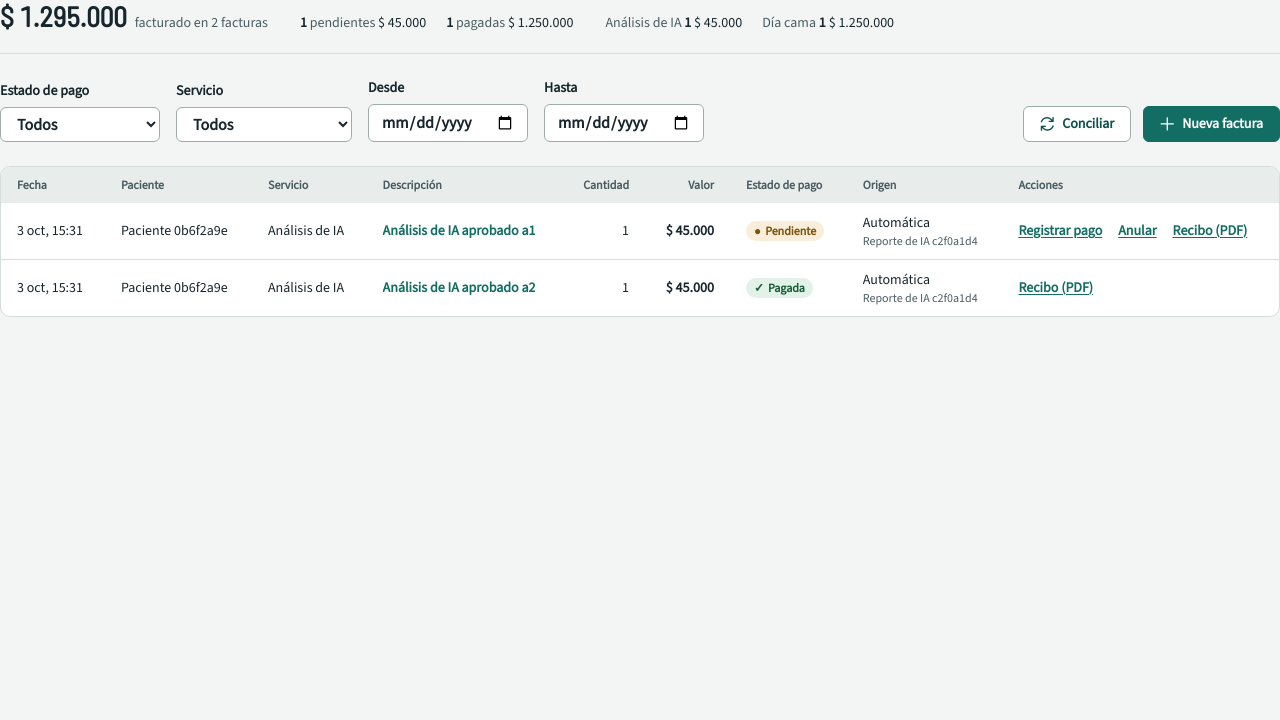
Test case: billing screen › reloads the list when the invoice changed state (409)
Click the button "Registrar pago" at [1060, 231], box [1018,221,1102,241]
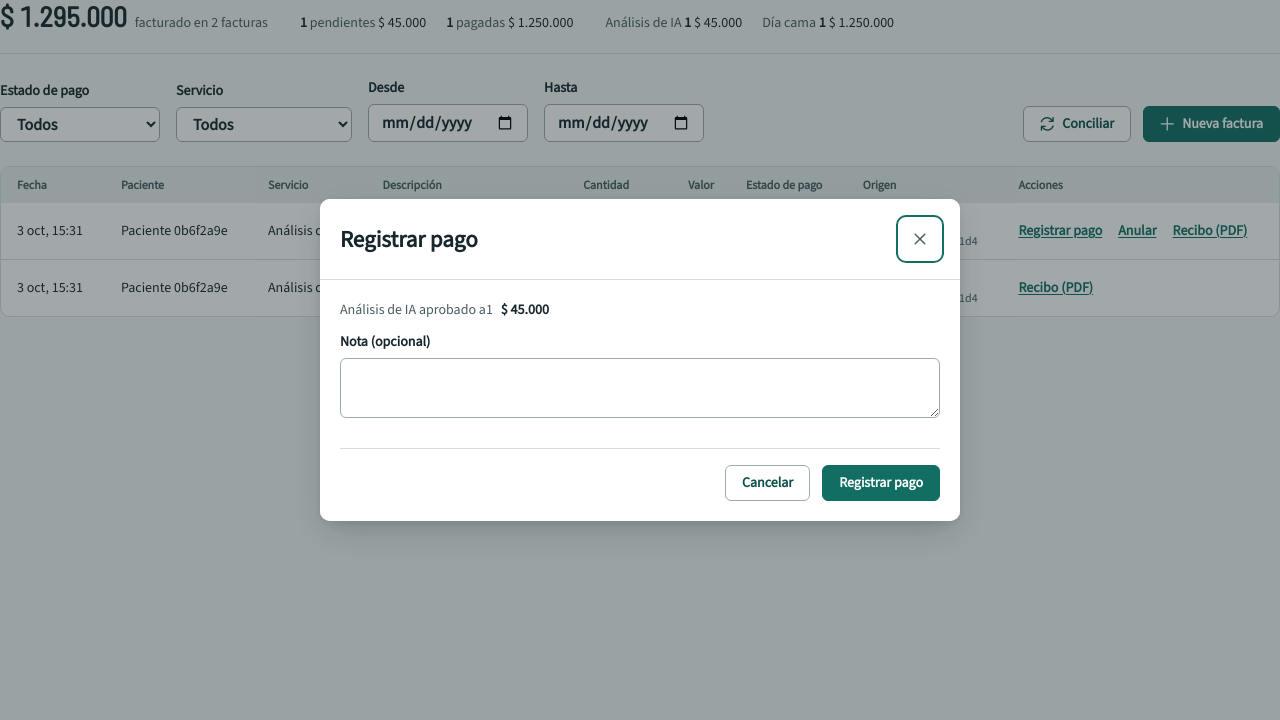
Click the button "Registrar pago" at [881, 483], box [822,465,940,501]
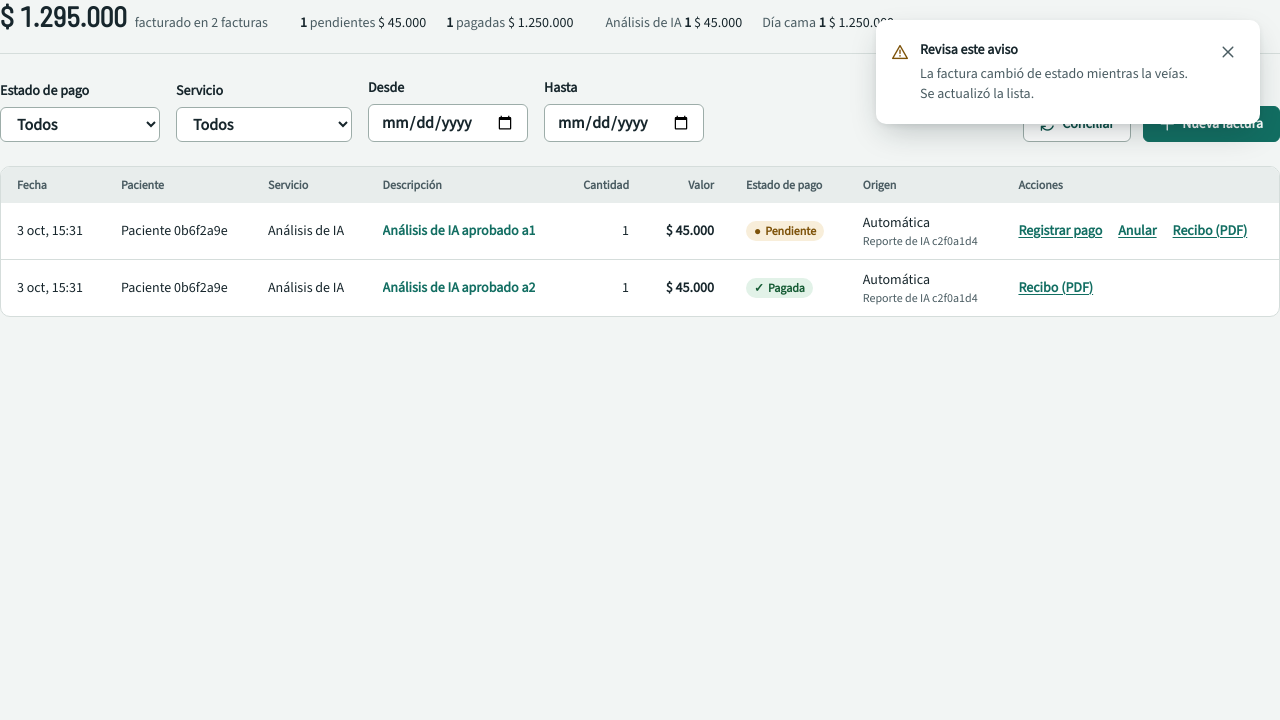
Now the text "cambió de estado mientras la veías" is shown, box [920,64,1188,103]
